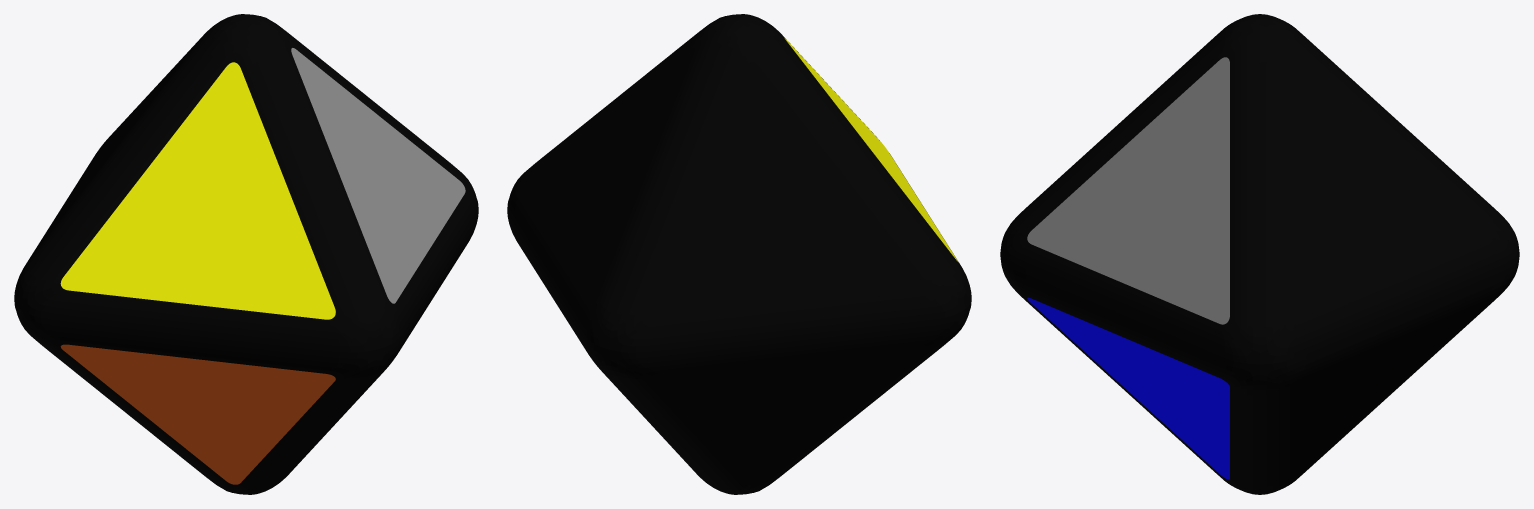
The model's file is back.fbx.
The picture shows the model from 3 angles, left to right: view 1: azimuth 30°, elevation 25°; view 2: azimuth 150°, elevation 25°; view 3: azimuth 270°, elevation 25°; orthographic projection.
Parts seen in each view (by area): view 1: back; view 2: back; view 3: back.
Part boxes in pixels (x1,y1,x2,y2): back: (14, 14, 478, 494); back: (507, 14, 971, 494); back: (1000, 14, 1519, 494).
Size of the model in its own units: 174 by 174 by 174.
